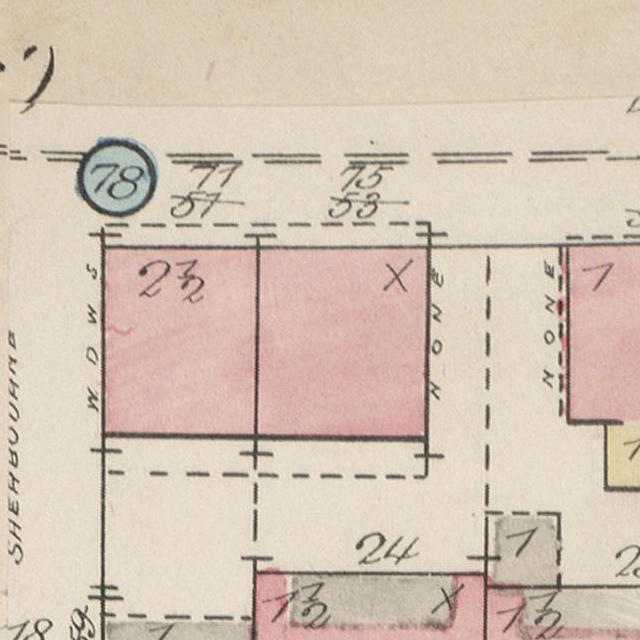building-footprints: (256, 246, 430, 438), (104, 246, 259, 436), (568, 243, 640, 489), (254, 572, 485, 640), (486, 585, 640, 640), (486, 512, 560, 586), (103, 614, 254, 640)
